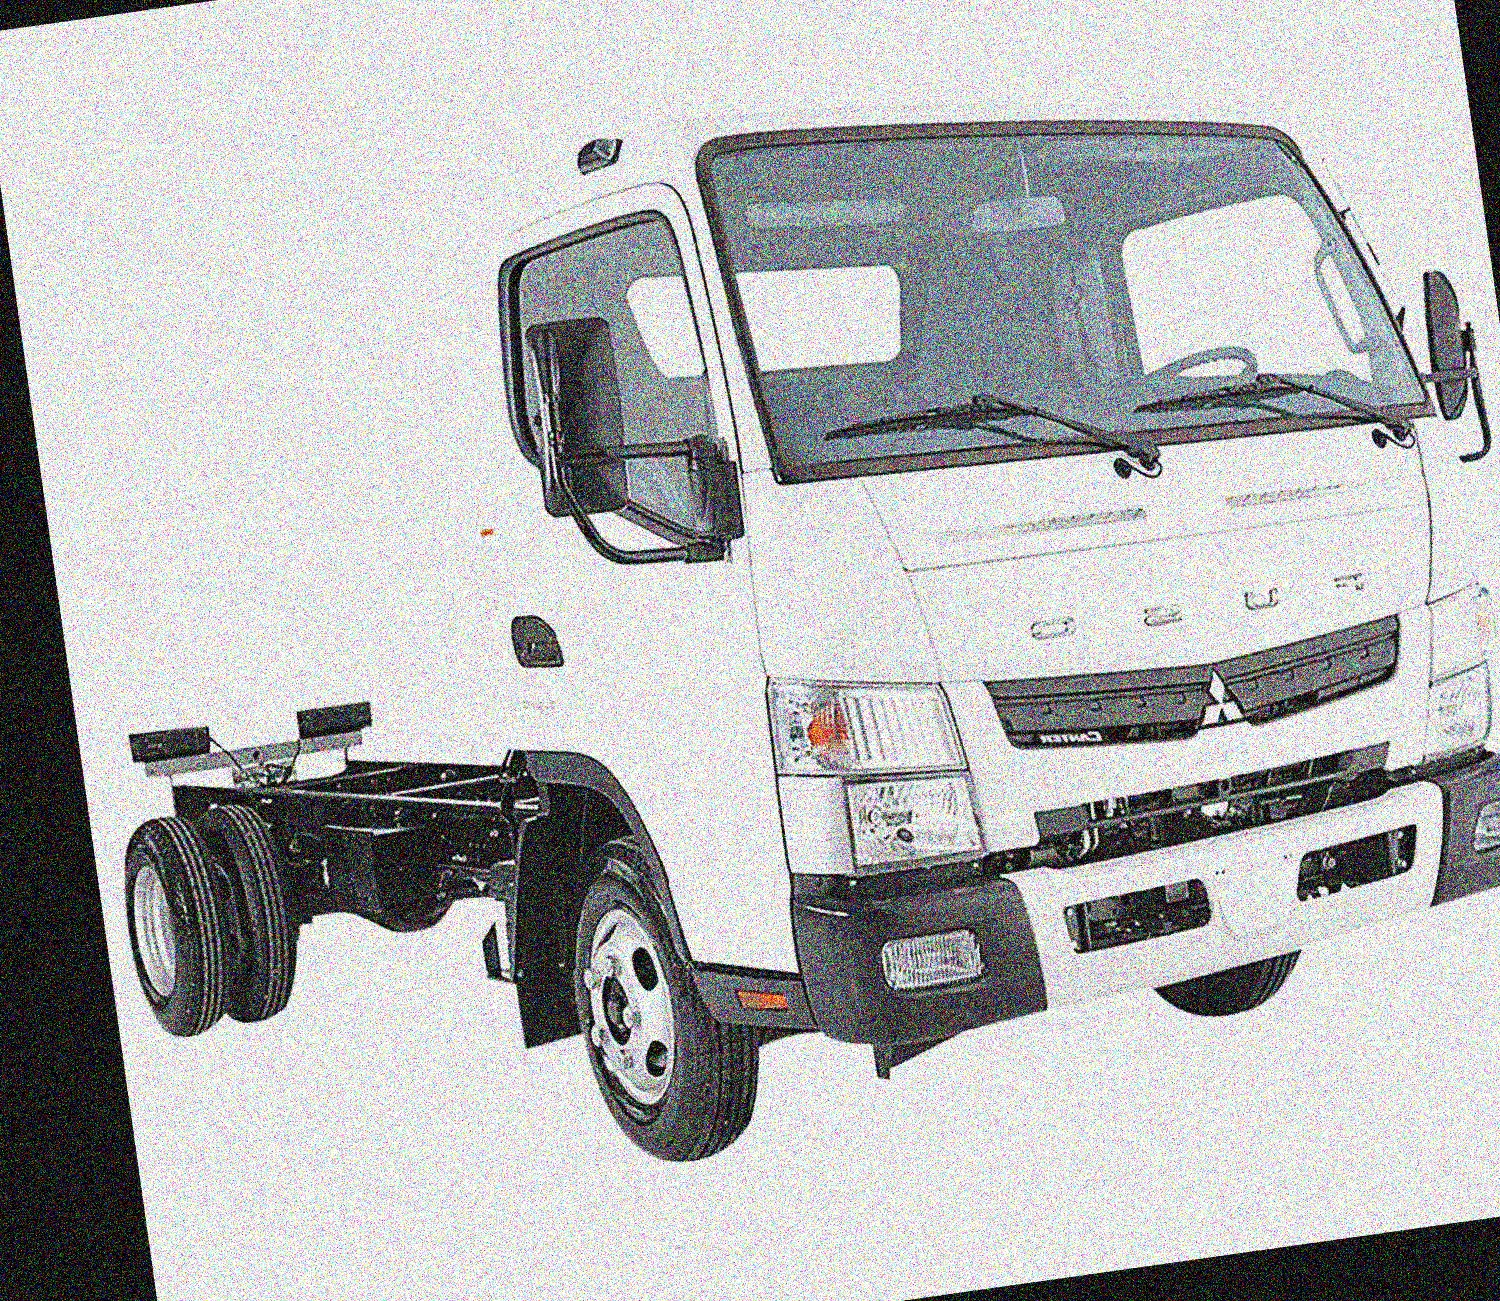truck: (31, 10, 1500, 1231)
